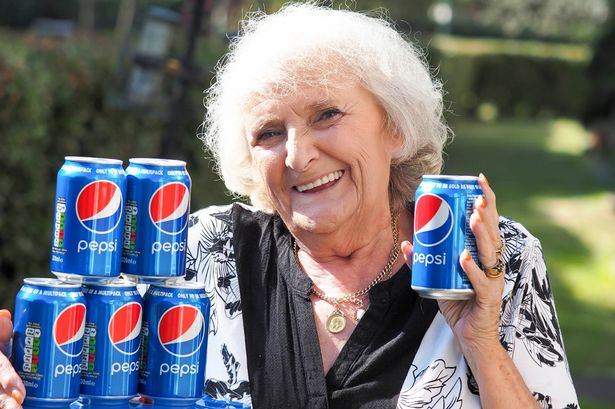pepsi: (75, 175, 122, 233), (156, 301, 204, 356), (156, 303, 204, 356), (75, 179, 122, 233), (146, 178, 189, 233), (146, 180, 189, 233), (414, 191, 454, 245), (413, 192, 454, 244), (414, 194, 454, 245), (106, 299, 141, 354), (52, 301, 87, 355), (106, 299, 139, 354), (109, 299, 139, 354), (414, 194, 430, 242), (438, 196, 454, 243)
